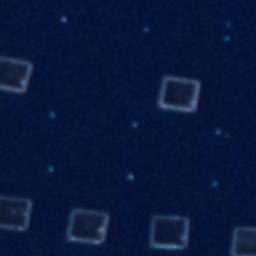square_cover: (62, 202, 112, 248), (154, 72, 207, 115), (149, 210, 193, 254), (1, 55, 41, 101), (1, 193, 37, 236), (227, 222, 255, 256)
